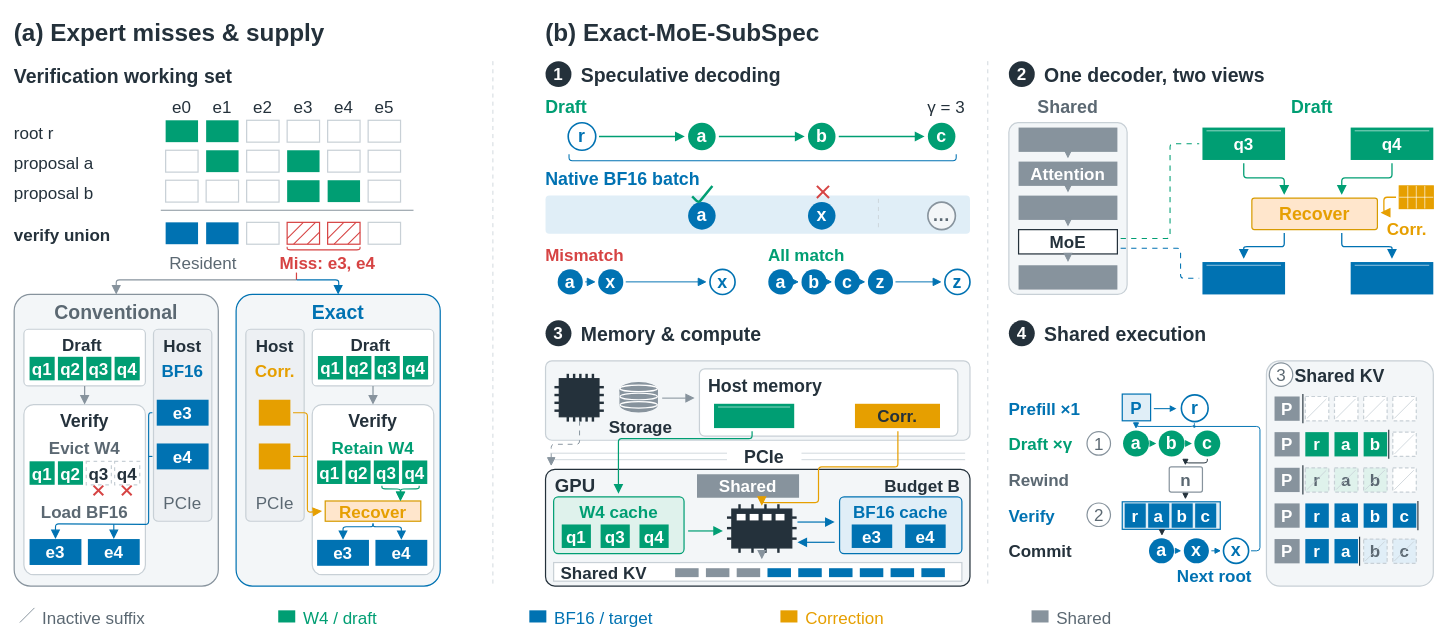
This 1449x642 diagram has some shape labels left out. The shapes that lost their labels are listed below. From the top down, each one's centre as x and y in pixels, then its label:
At point 1067,139: "Embedding".
At point 1067,207: "Router".
At point 1067,277: "Norm/Head".
At point 1243,278: "e3 BF16".
At point 1391,278: "e4 BF16".
At point 274,412: "c3".
At point 578,397: "CPU".
At point 754,415: "W4".
At point 274,456: "c4".
At point 761,528: "SMs".
